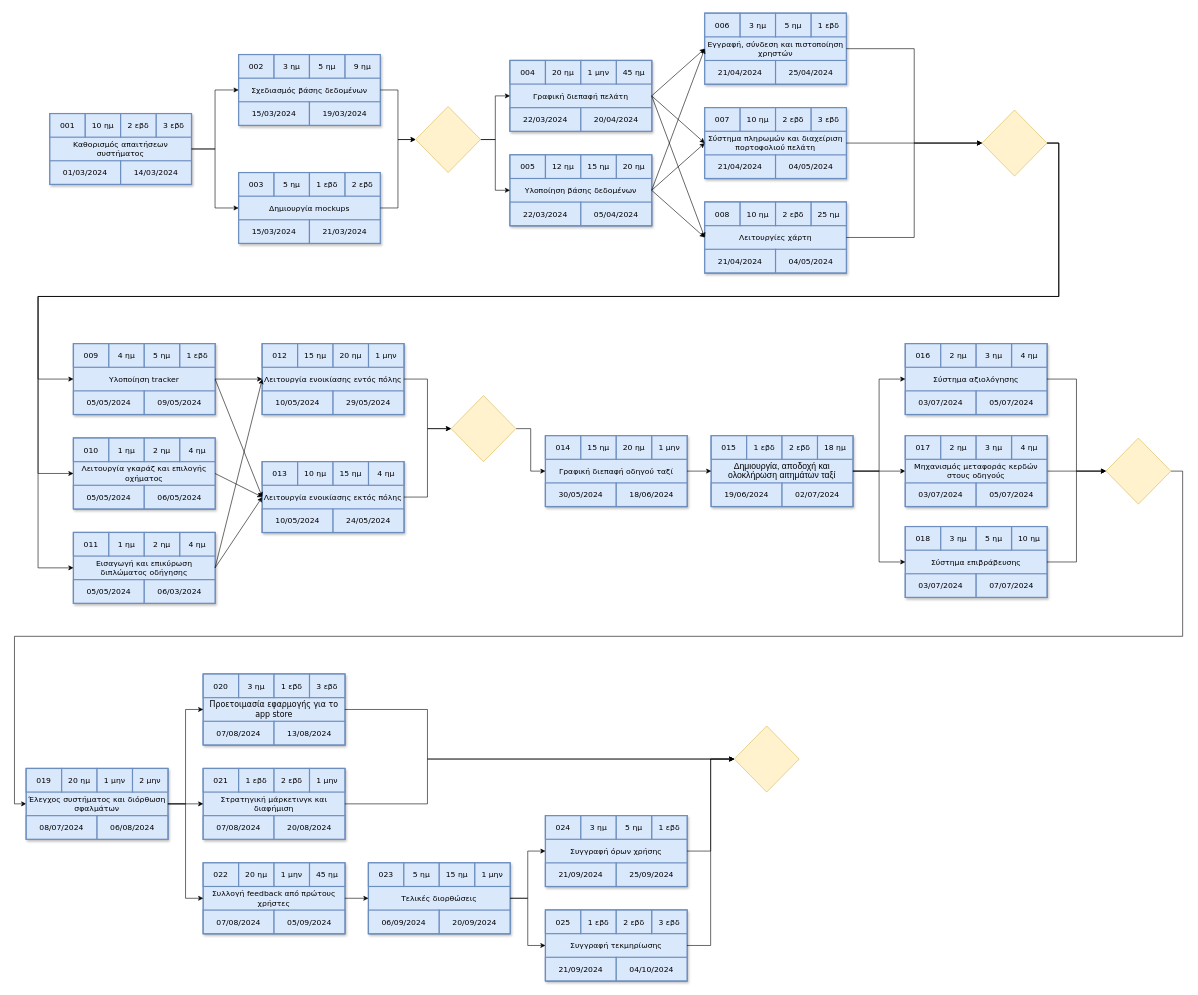
Some shapes in this 1198 by 995 pixel diagram are drawn without their labels. The centre of each missing label's shape, as x and y in pixels:
"Έναρξη Προγραμματισμού" belongs at [448,139].
"Κυκλοφορία Εφαρμογής" belongs at [766,758].
"Ολοκλήρωση Αρχικών Λειτουργιών" belongs at [1014,142].
"Ολοκλήρωση Λειτουργικότητας Ενοικίασης" belongs at [483,428].
"Ολοκλήρωση Λειτουργικότητας Ταξί" belongs at [1138,470].
